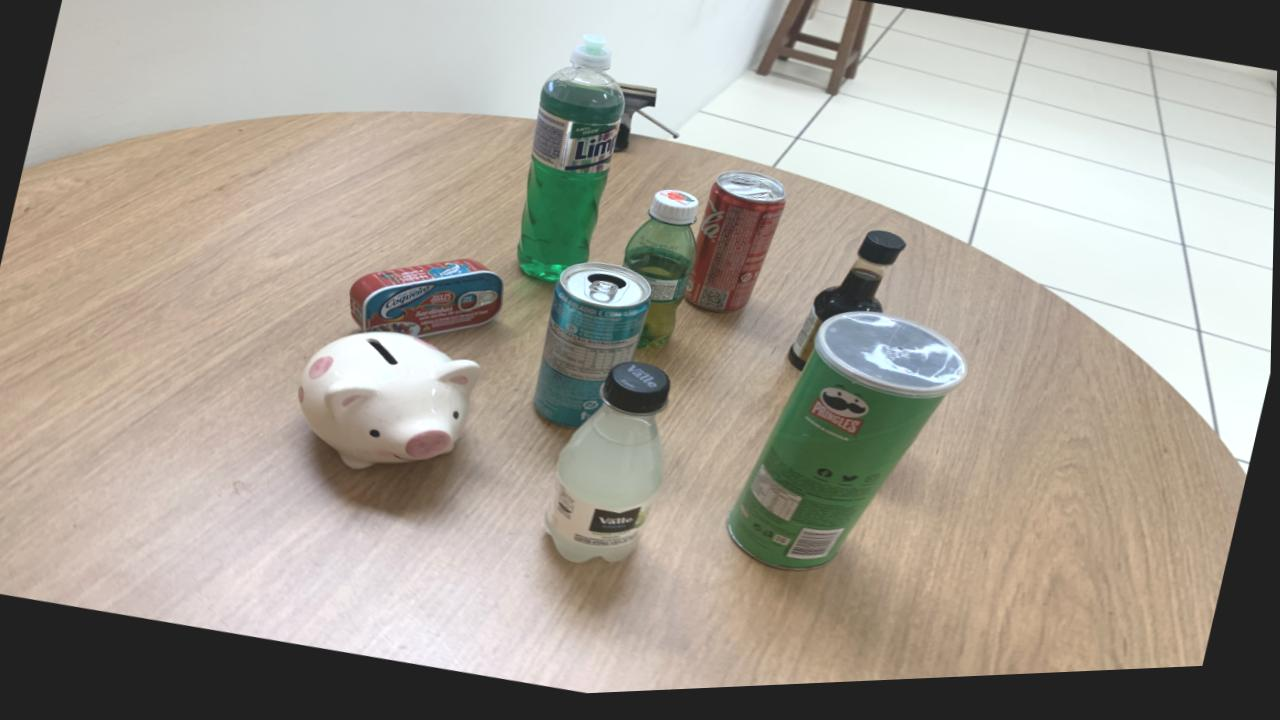Coke-Drinks: (685, 177, 787, 320)
Detergent-Cleanup_Items: (517, 40, 625, 287)
English_Sauce-Pantry_Items: (790, 238, 907, 377)
Guarana-Drinks: (624, 196, 699, 354)
Pig_Safe-Miscellaneous: (298, 336, 483, 473)
Pringles-Snacks: (729, 320, 969, 578)
Soda-Drinks: (547, 367, 672, 568)
Tea-Drinks: (534, 268, 653, 434)
Tuna_Can-Pantry_Items: (350, 263, 505, 342)
